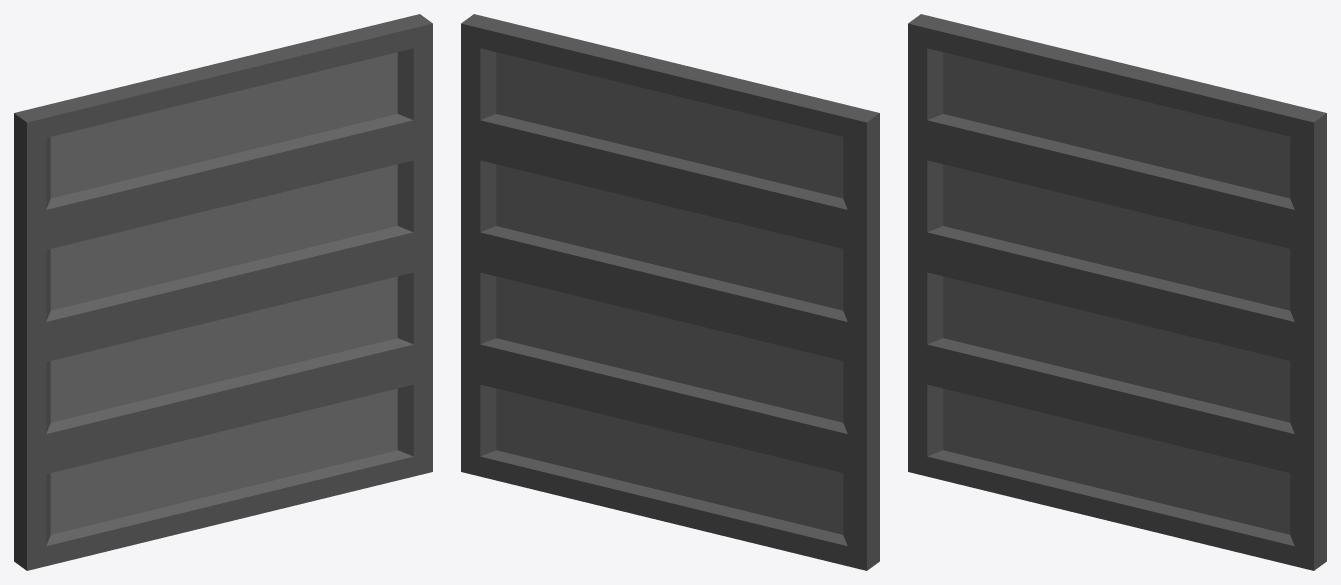
File: GarageDoor01.fbx
The picture shows the model from 3 angles, left to right: view 1: azimuth 30°, elevation 25°; view 2: azimuth 150°, elevation 25°; view 3: azimuth 330°, elevation 25°; orthographic projection.
Parts seen in each view (by area): view 1: GarageDoor01; view 2: GarageDoor01; view 3: GarageDoor01.
Boxes of the visible parts, x1,y1,x2,y2 form: GarageDoor01: [14, 14, 432, 570]; GarageDoor01: [461, 14, 879, 570]; GarageDoor01: [908, 14, 1326, 570].
Bounding box in the file's own units: 180 × 190 × 10.
